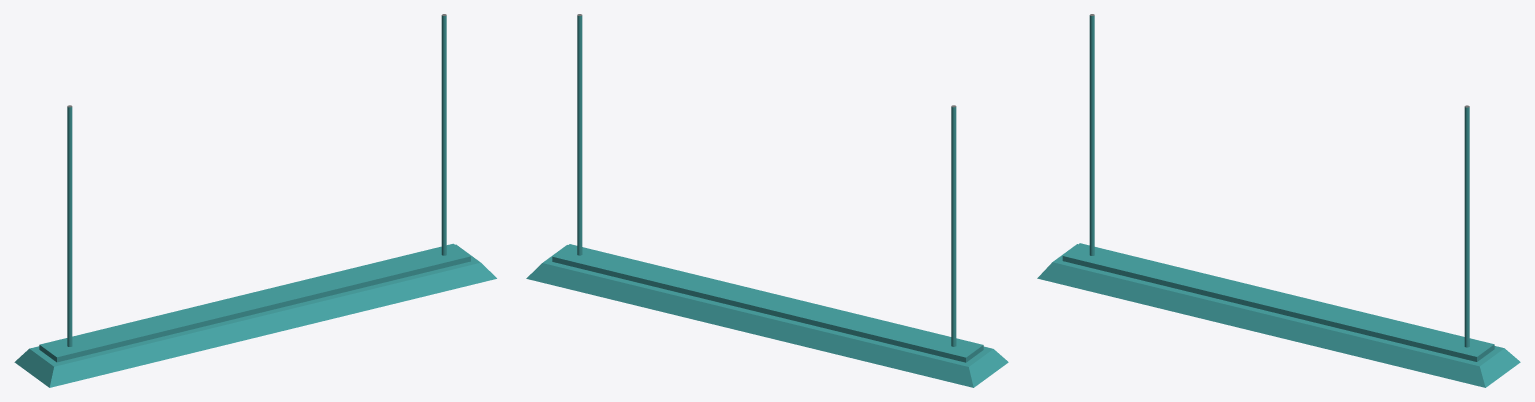
File: AYDINLATMA.fbx
3 renders of one model, left to right at view 1: azimuth 30°, elevation 25°; view 2: azimuth 150°, elevation 25°; view 3: azimuth 330°, elevation 25°, orthographic.
Visible parts, largest first — view 1: Box076; view 2: Box076; view 3: Box076.
Boxes of the visible parts, x1,y1,x2,y2 form: Box076: [14, 14, 496, 387]; Box076: [526, 14, 1008, 387]; Box076: [1037, 14, 1520, 387].
Size of the model in its own units: 194 by 108 by 26.45.
